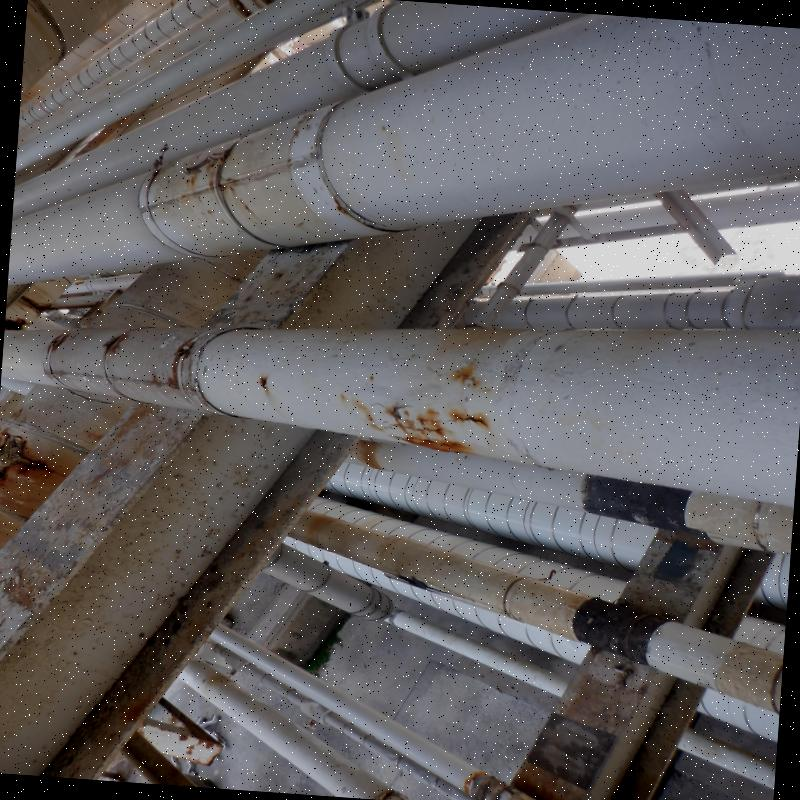corrosion: (7, 294, 60, 330), (388, 426, 463, 447)
